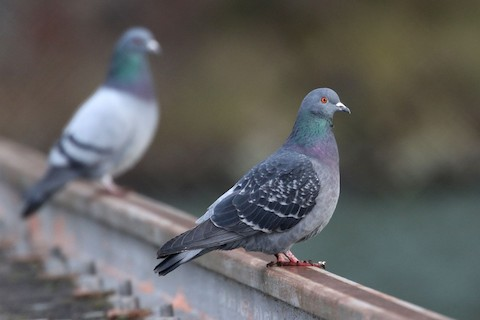pigeon: (152, 85, 352, 281), (17, 23, 166, 222)
